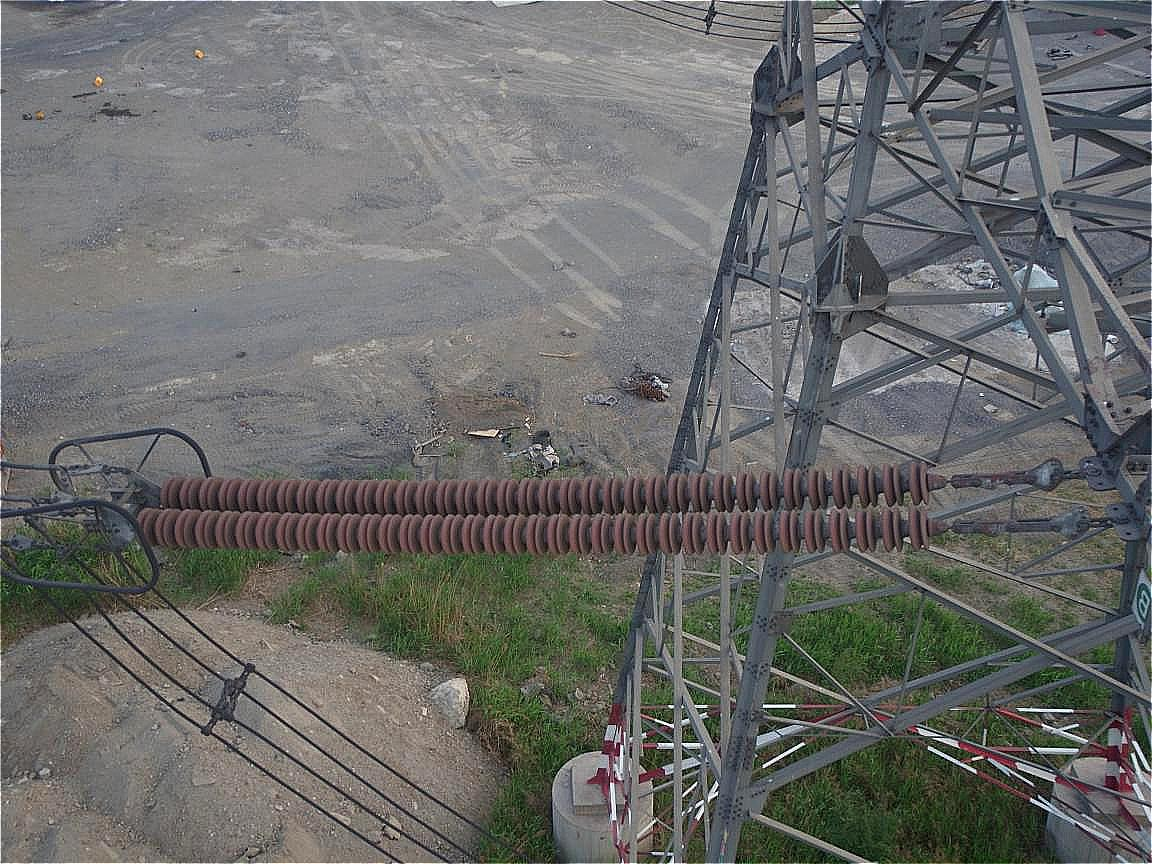insultor2: (135, 459, 932, 553)
